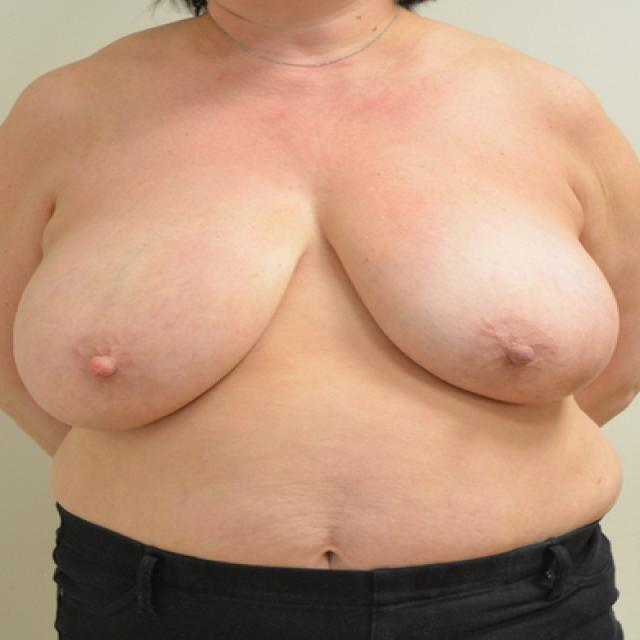Seno ileso: (2, 185, 314, 452), (322, 186, 630, 427)
